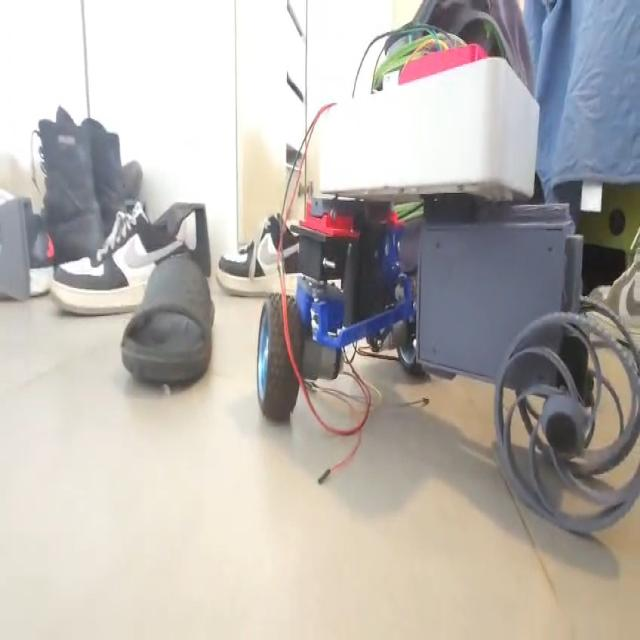Robot: (254, 21, 640, 544)
